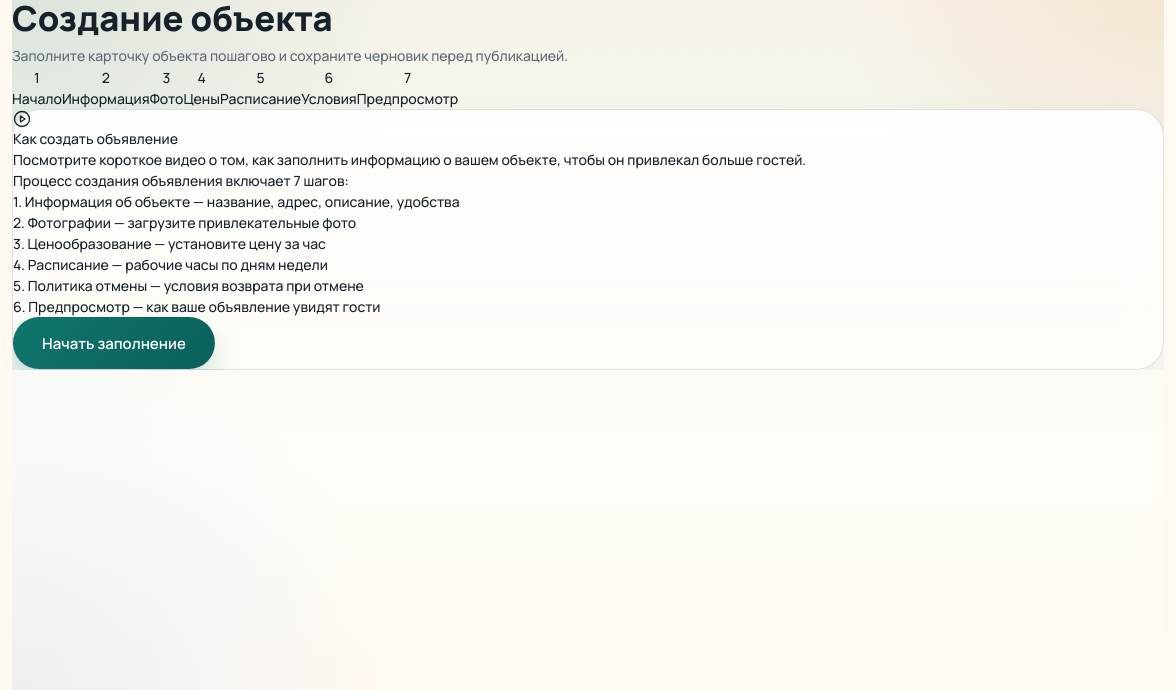
Scenario: BathhouseForm › step navigation › navigates backward with back button
Click the button "Начать заполнение": (114, 343) [13,317,215,369]
(page scrolled)
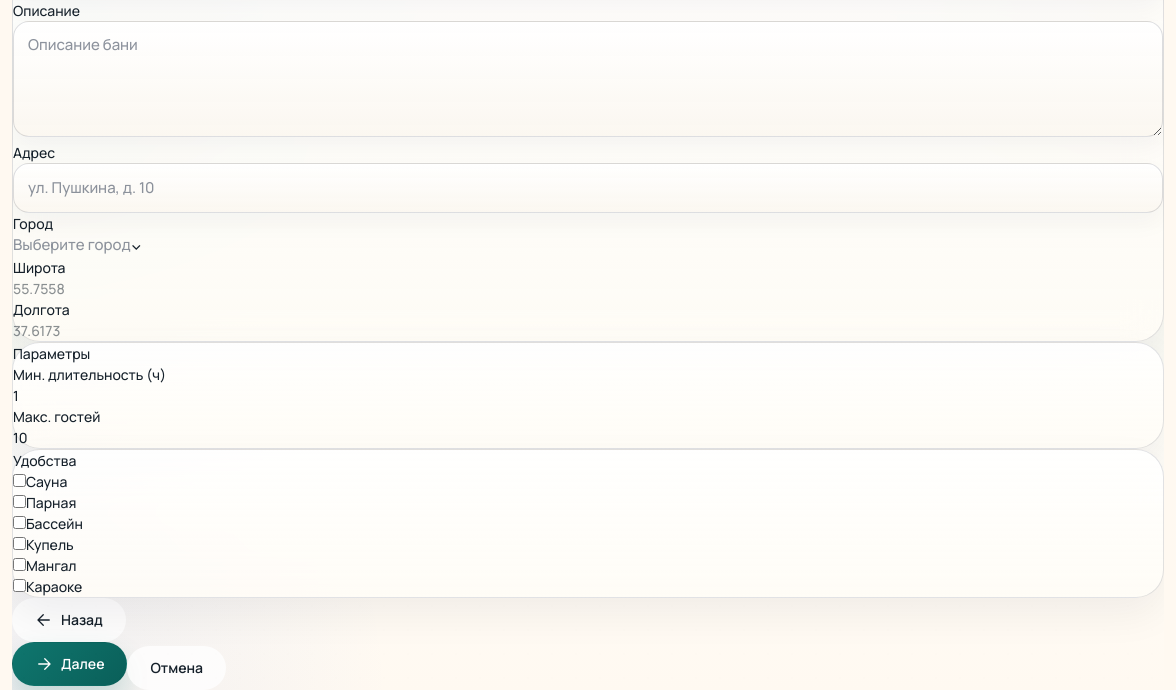
Click the button "Назад": (69, 620) [12,598,126,642]
(page scrolled)
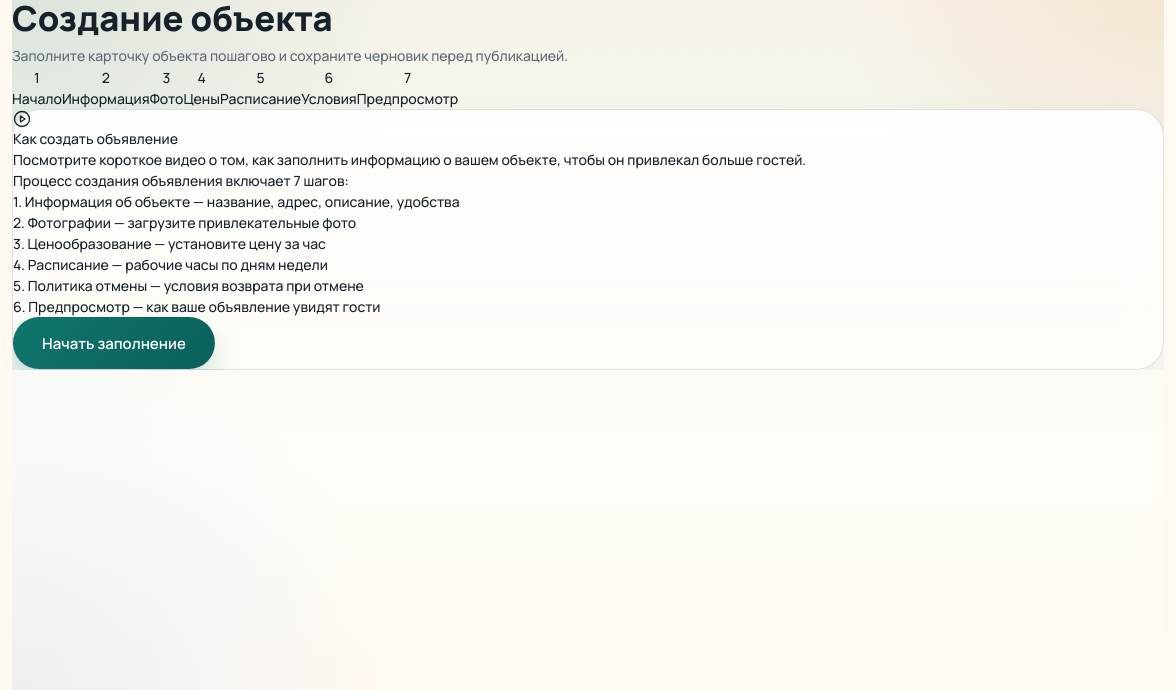
Expected: the heading "Как создать объявление" is shown, [13,129,178,148]
